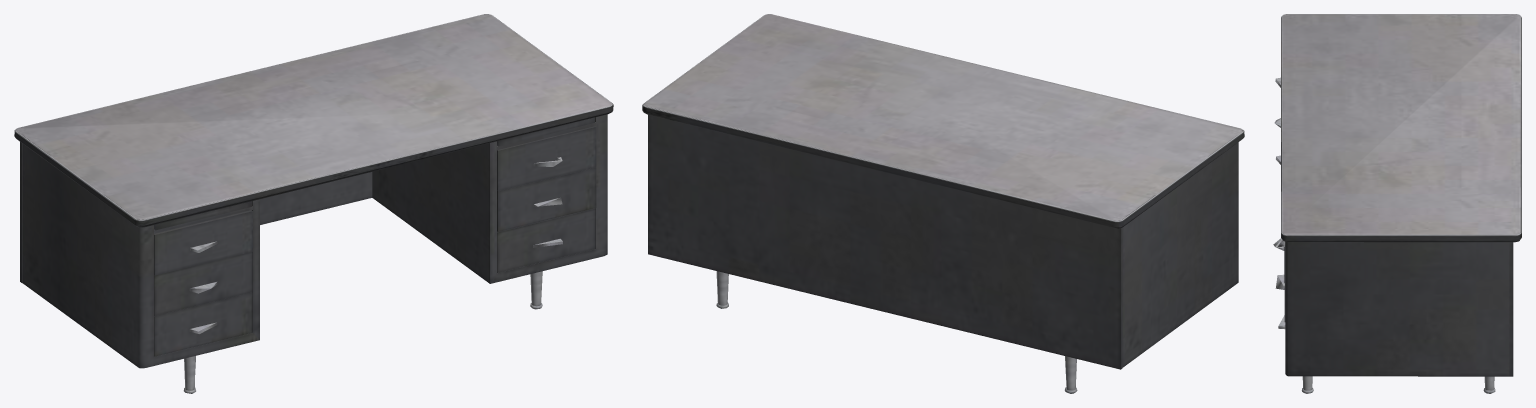
Rendered from metal_office_desk.glb.
The picture shows the model from 3 angles, left to right: view 1: azimuth 30°, elevation 25°; view 2: azimuth 150°, elevation 25°; view 3: azimuth 270°, elevation 25°; orthographic projection. The views are drawn at different scales.
Parts seen in each view (by area): view 1: metal_office_desk, metal_office_desk_drawer_04, metal_office_desk_drawer_01, metal_office_desk_drawer_02, metal_office_desk_drawer_03, metal_office_desk_drawer_06, metal_office_desk_drawer_05, metal_office_desk_tray_01, metal_office_desk_tray_02; view 2: metal_office_desk; view 3: metal_office_desk.
Boxes of the visible parts, box(x1,y1,x2,y2) form: metal_office_desk: box(14, 14, 613, 393); metal_office_desk_drawer_04: box(154, 210, 252, 275); metal_office_desk_drawer_01: box(497, 126, 596, 191); metal_office_desk_drawer_02: box(497, 167, 596, 231); metal_office_desk_drawer_03: box(497, 208, 595, 272); metal_office_desk_drawer_06: box(154, 292, 252, 356); metal_office_desk_drawer_05: box(154, 252, 252, 315); metal_office_desk_tray_01: box(154, 201, 252, 230); metal_office_desk_tray_02: box(497, 117, 594, 146); metal_office_desk: box(642, 14, 1244, 393); metal_office_desk: box(1281, 14, 1521, 393).
Bounding box in the file's own units: 2 × 0.7868 × 0.9472.
Materials: 1 (1 with a texture image).
